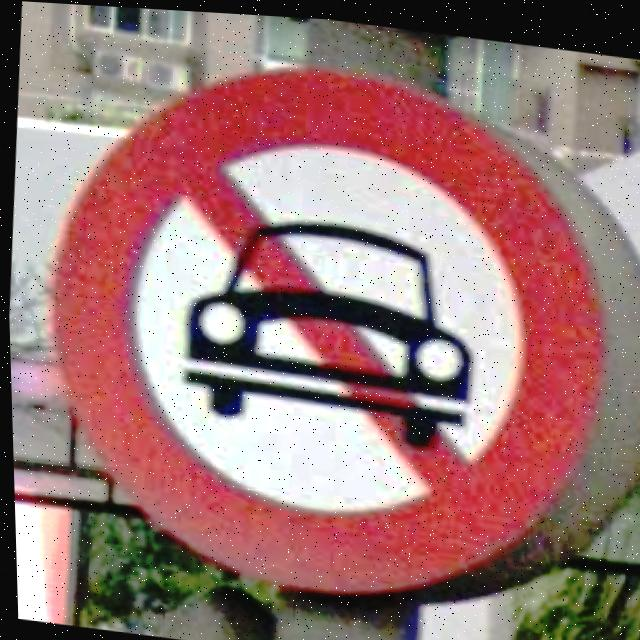nocar: (48, 64, 605, 592)
